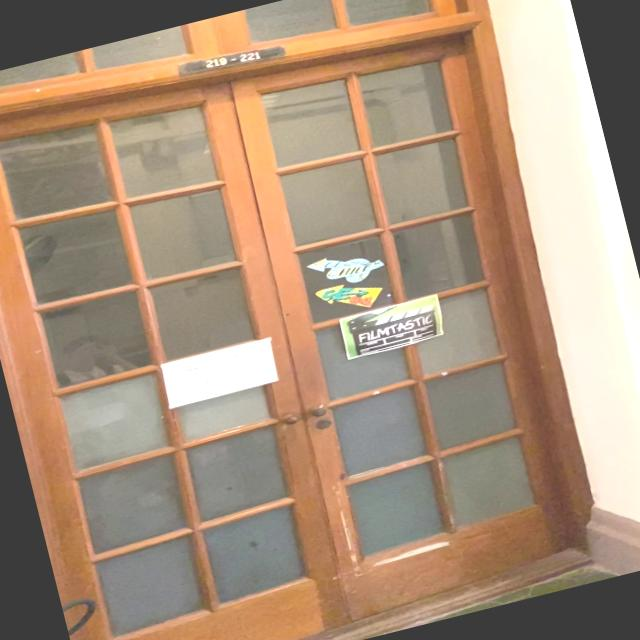room221: (172, 34, 291, 84)
